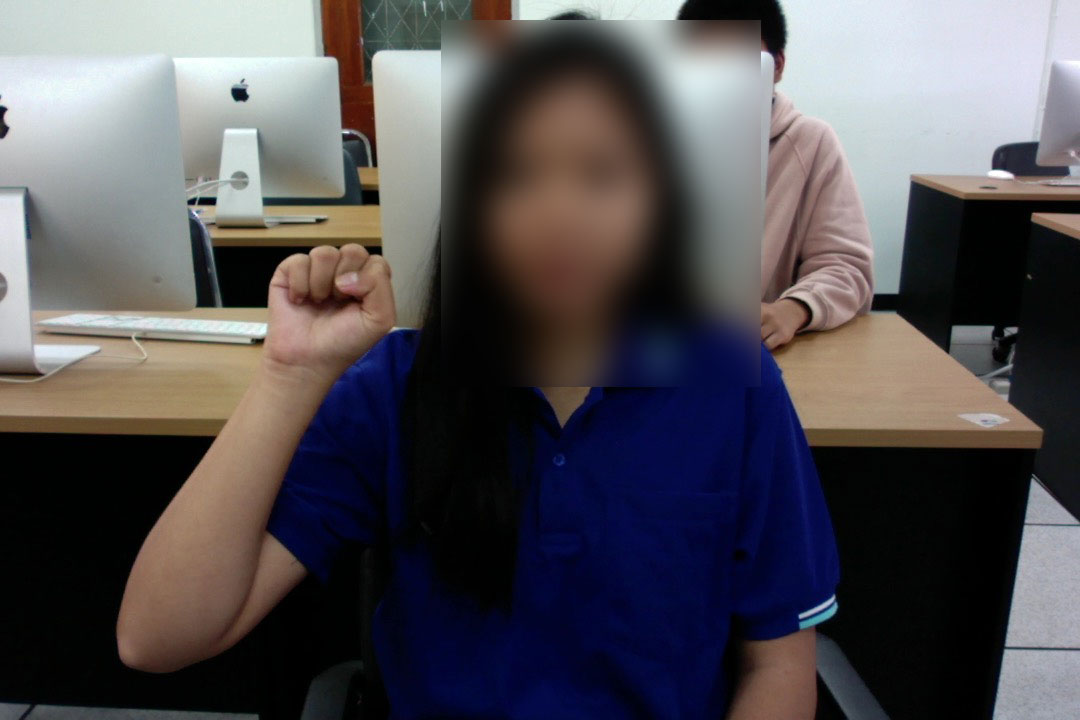sor: (257, 238, 402, 398)
